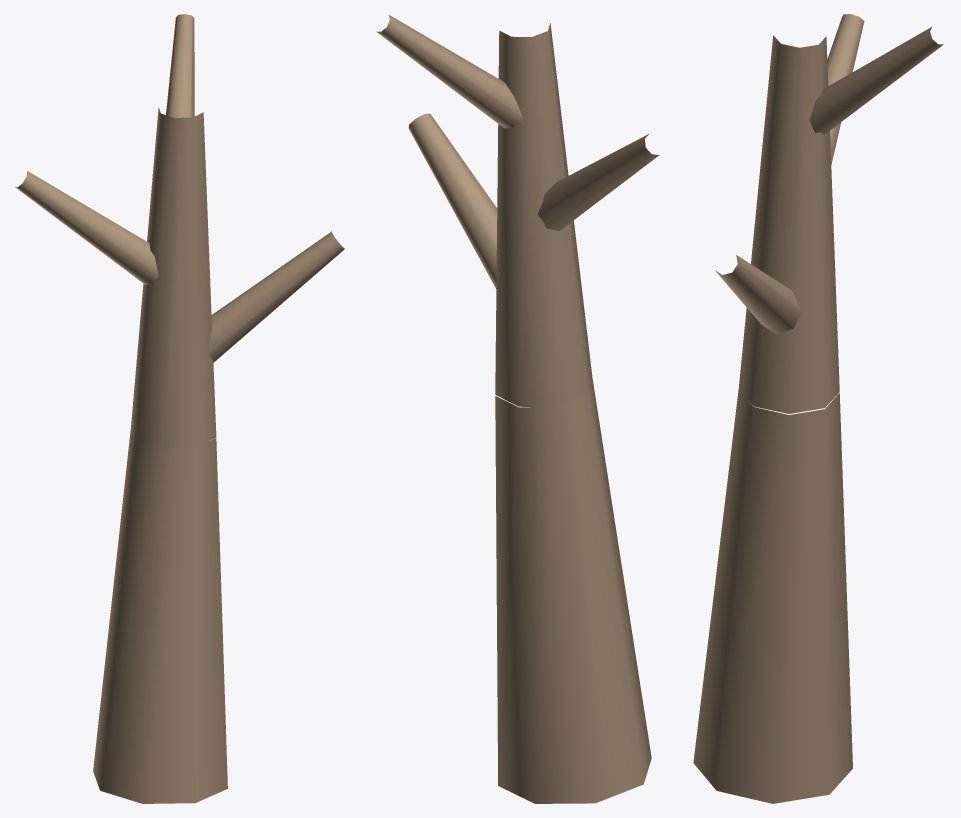
File: TreeTrunk.gltf
3 views of the same model, side by side, from view 1: azimuth 30°, elevation 25°; view 2: azimuth 150°, elevation 25°; view 3: azimuth 270°, elevation 25° (orthographic). The views are drawn at different scales.
Visible parts, largest first — view 1: TreeTrunk; view 2: TreeTrunk; view 3: TreeTrunk.
Boxes of the visible parts, box(x1,y1,x2,y2) form: TreeTrunk: box(15, 14, 344, 803); TreeTrunk: box(376, 14, 659, 803); TreeTrunk: box(693, 14, 943, 803).
Size of the model in its own units: 1.36 by 3.3 by 0.9508.
